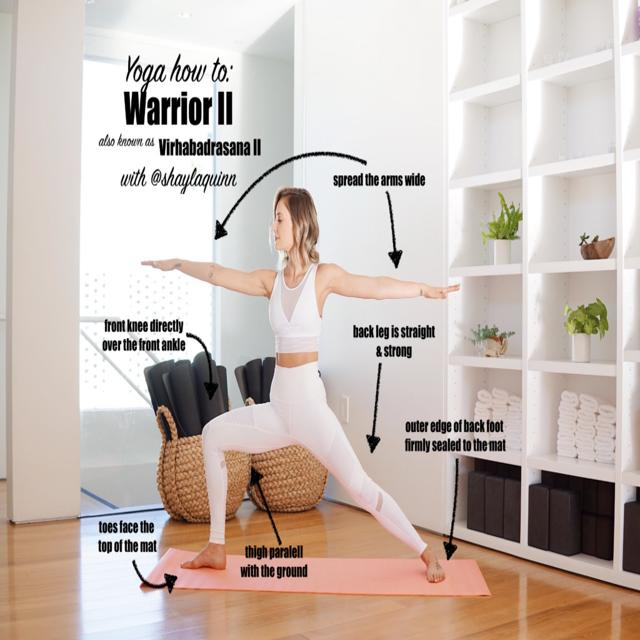Warrior_II: (134, 175, 467, 599)
